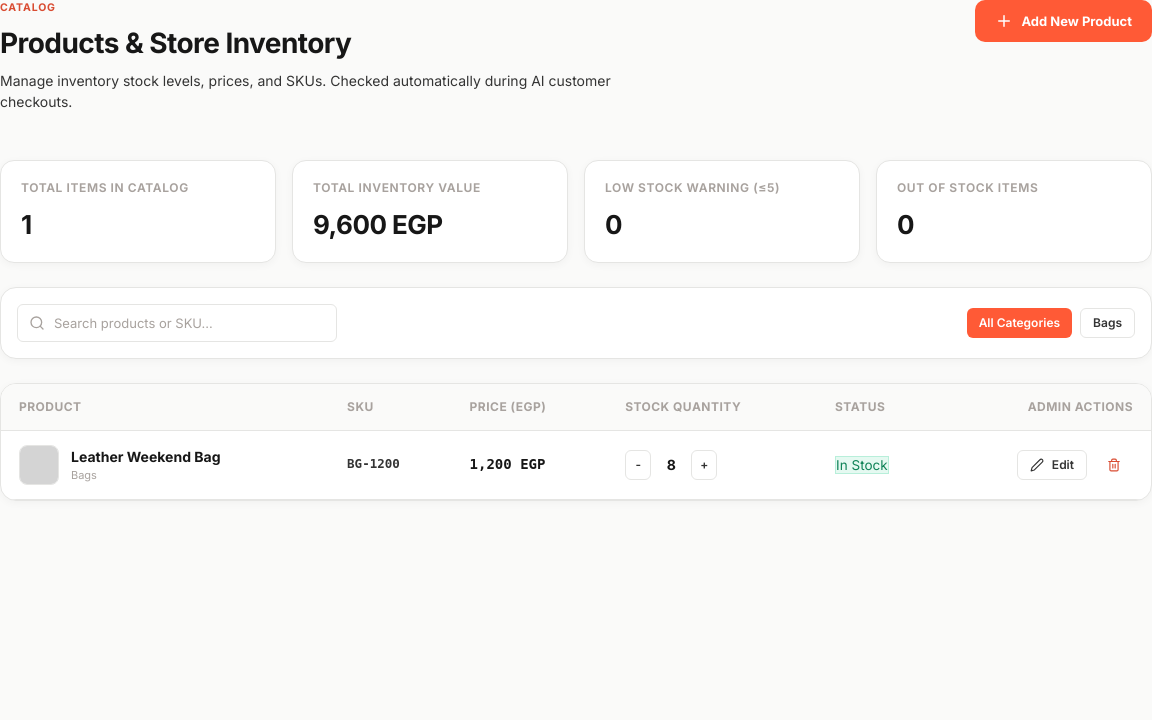
Scenario: Products and Services modals & ImageUploader flows › prefills product data on edit and updates product
This screenshot has width=1152, height=720.
Expected: the text "Leather Weekend Bag" is shown, [71,446,220,467]
Click the button "Edit" at point(1052, 465), box [1017,450,1087,480]
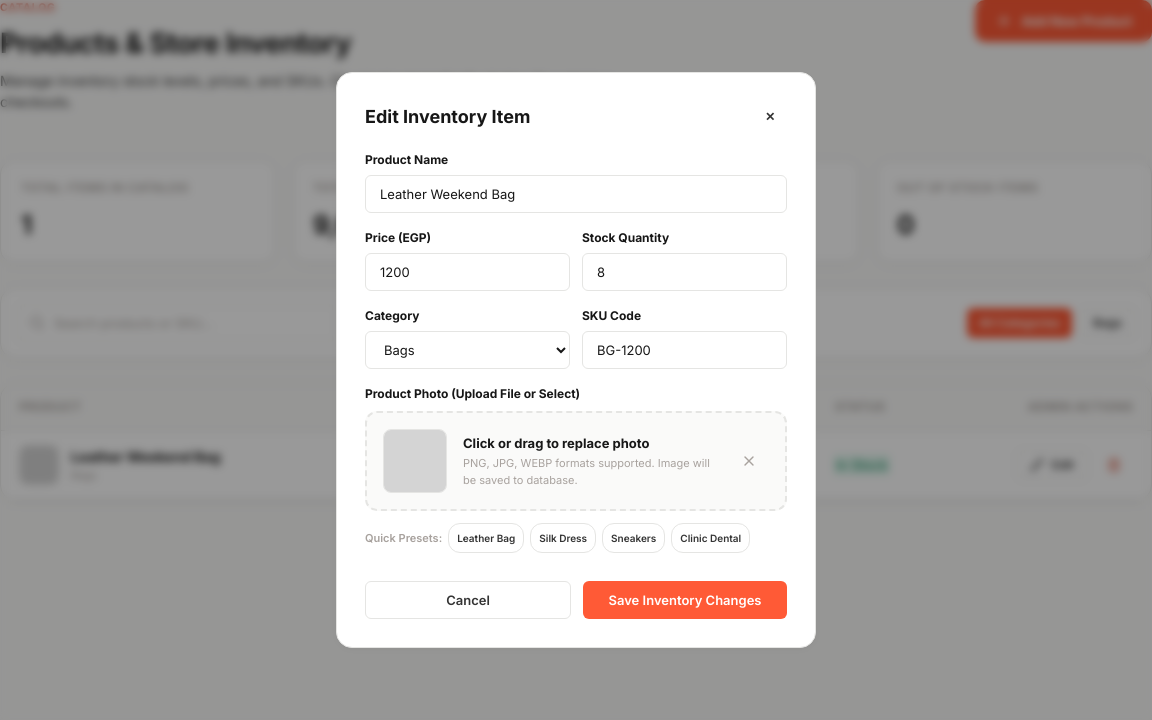
Expected: the heading "Edit Inventory Item" is shown, [365,102,530,130]
Replace the text in the field showing "Leather Weekend Bag" below "Product Name" with "Luxury Weekend Bag" at point(576, 194), box [365,175,787,213]
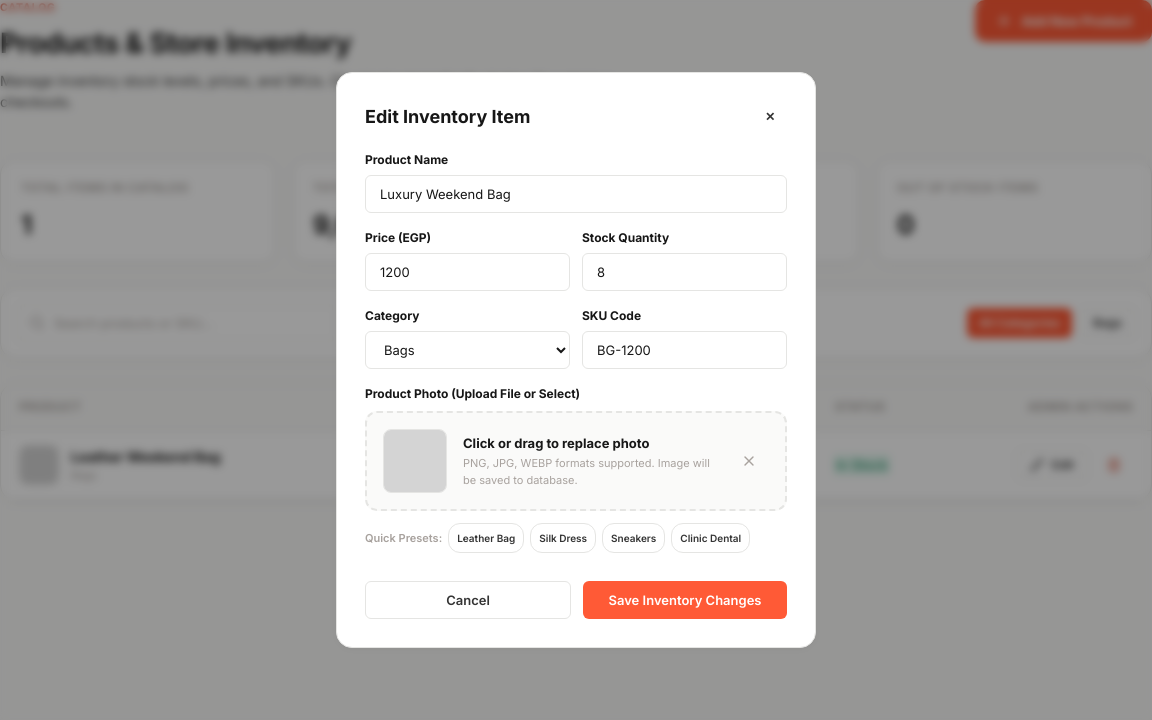
Submit the form named "save inventory changes", box [365,151,787,619]
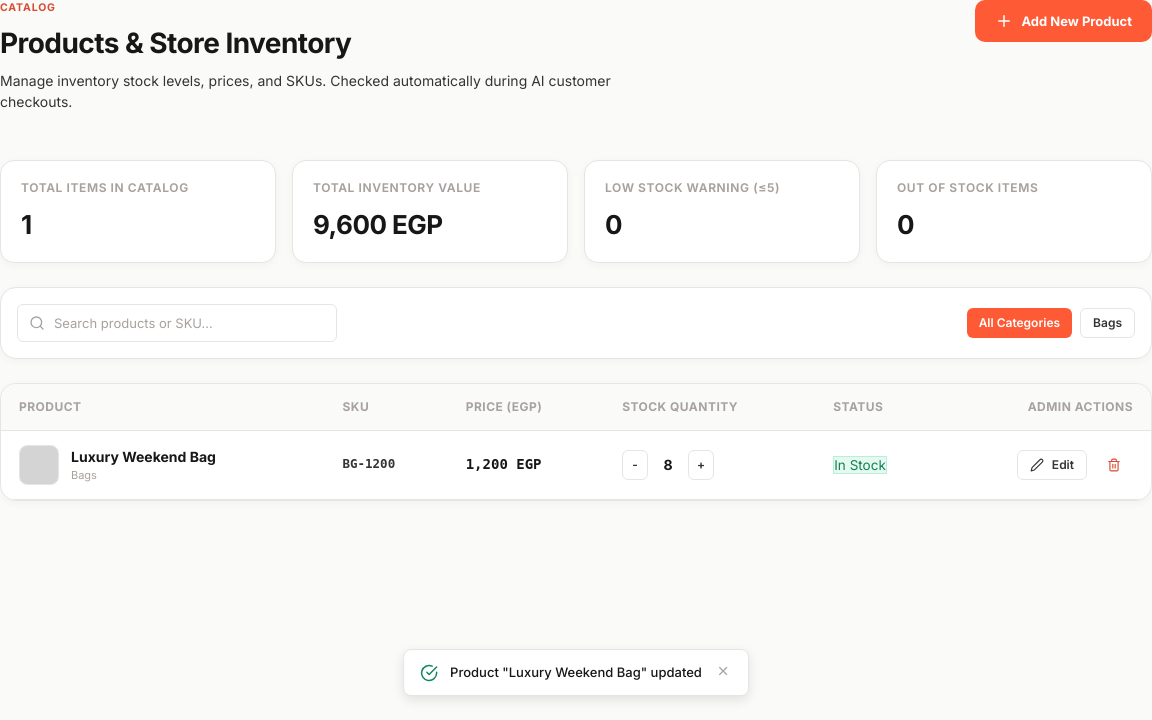
Expected: the text "Product \"Luxury Weekend Bag\" updated" is shown, [450,663,702,682]
